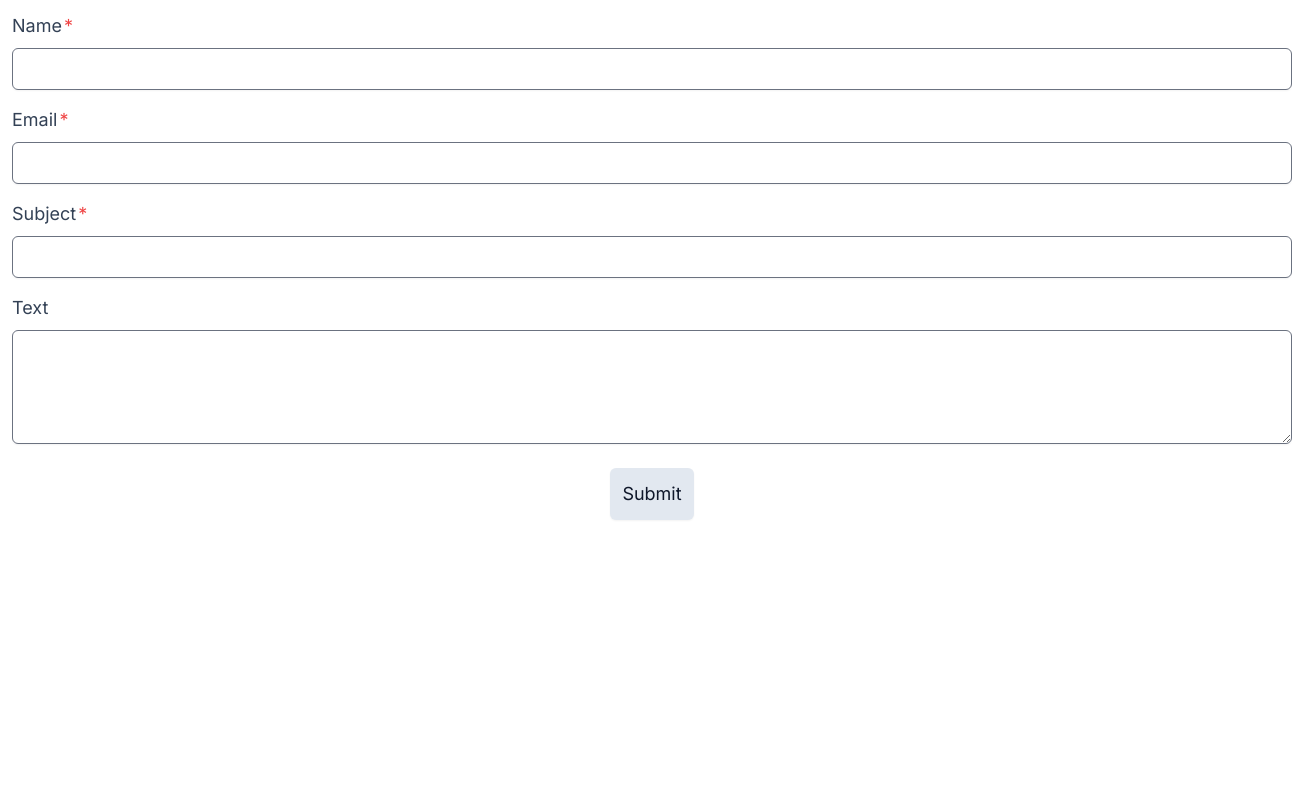
Test: ContactForm › should hide error message when form is changed
Step 1. Submit the form from the button "Submit", box [610,468,694,520]
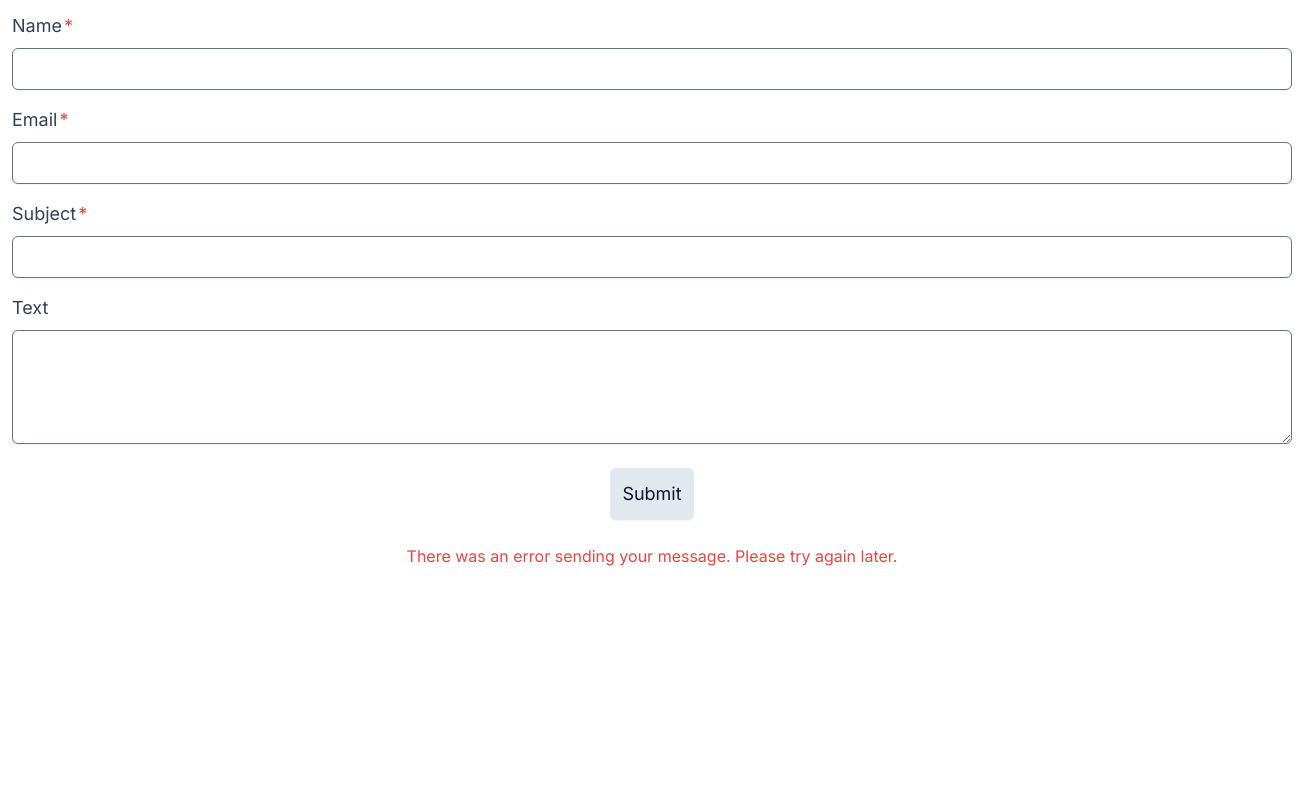
Expected: the text "error" is shown, [407,546,898,566]
Step 2. Type "John Doe" into the field labelled "Name" → (652, 69), box [12,48,1292,90]
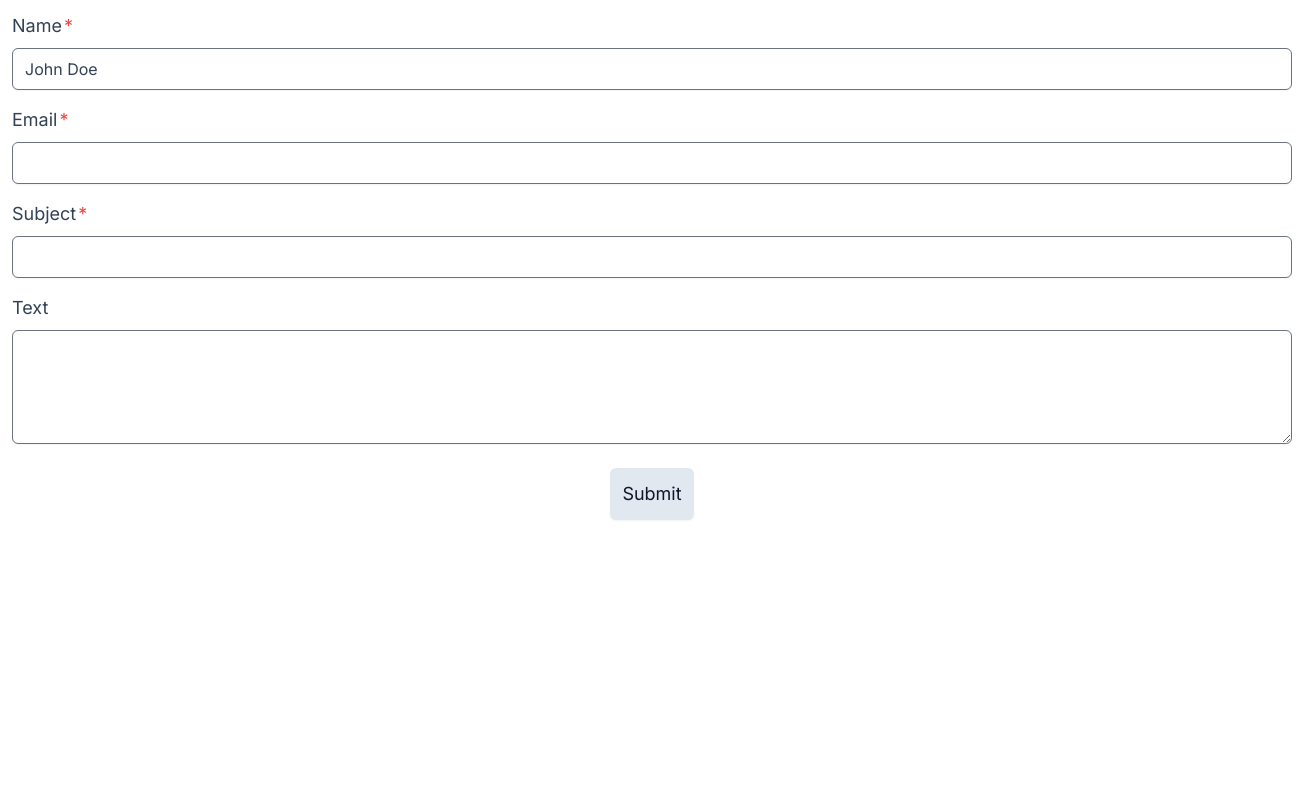
Expected: the text "error" is gone
